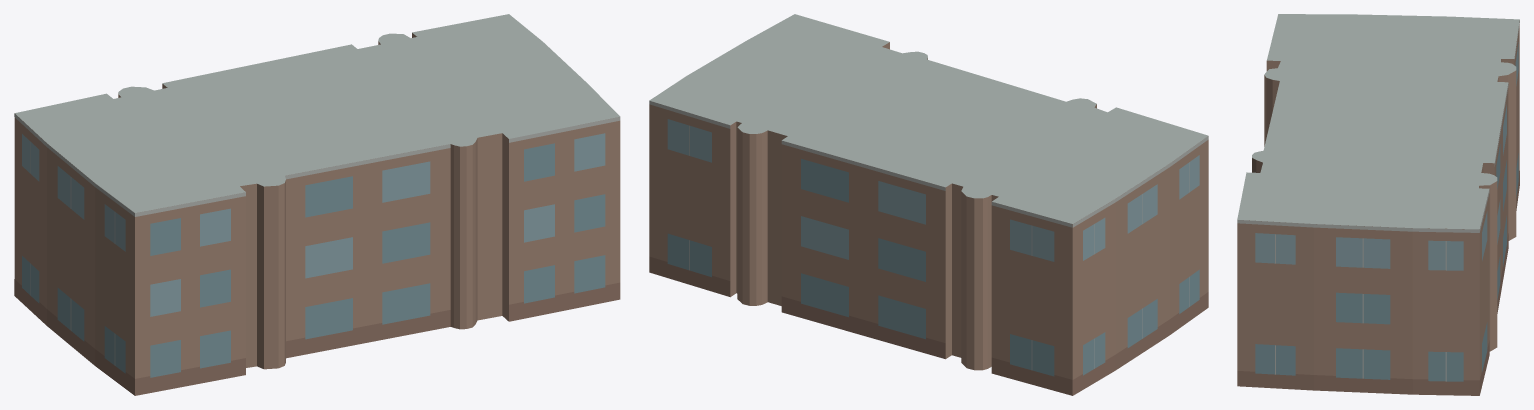
The model's file is survey-upis-33038722.glb.
3 views of the same model, side by side, from view 1: azimuth 30°, elevation 25°; view 2: azimuth 150°, elevation 25°; view 3: azimuth 270°, elevation 25° (orthographic). The views are drawn at different scales.
Visible parts, largest first — view 1: survey-upis-33038722.tmp; view 2: survey-upis-33038722.tmp; view 3: survey-upis-33038722.tmp.
Part boxes in pixels (<box>): survey-upis-33038722.tmp: <box>14,14,620,395</box>; survey-upis-33038722.tmp: <box>649,14,1208,395</box>; survey-upis-33038722.tmp: <box>1237,14,1519,395</box>.
Bounding box in the file's own units: 31.64 × 11.4 × 17.54.
